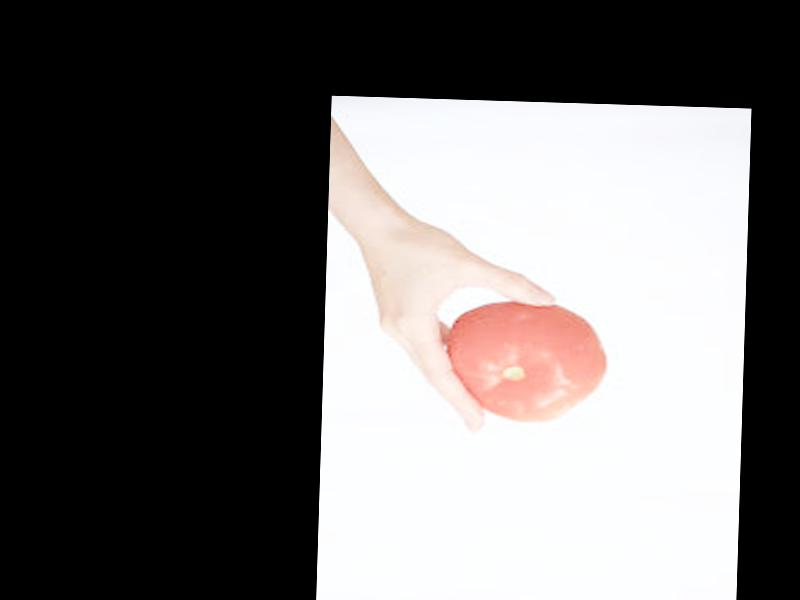Tomato: (448, 300, 607, 424)
